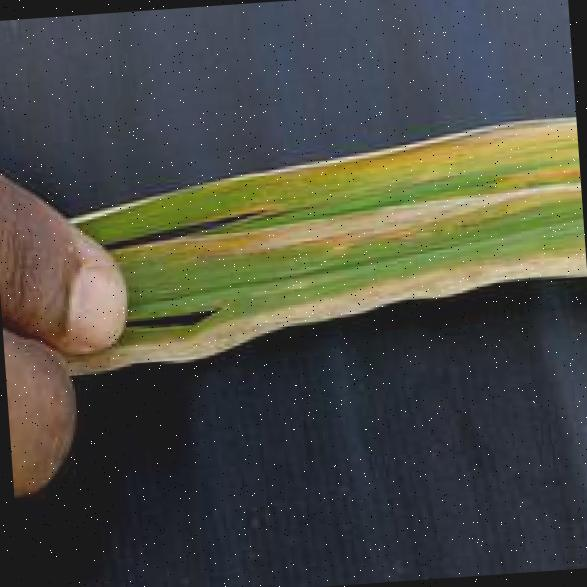Bacteria_Leaf_Blight: (72, 133, 571, 350)
